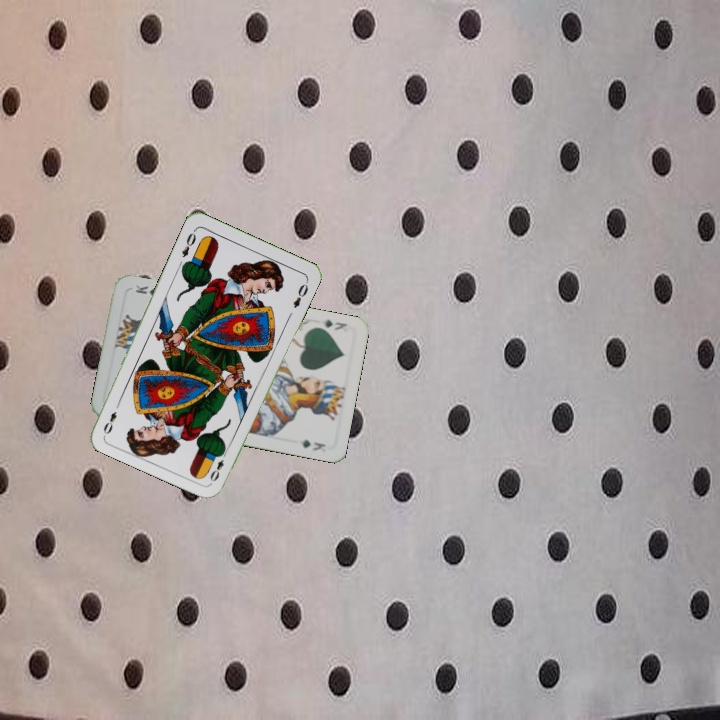EO: (206, 446, 230, 484), (178, 226, 199, 260)
GK: (317, 315, 350, 333)
